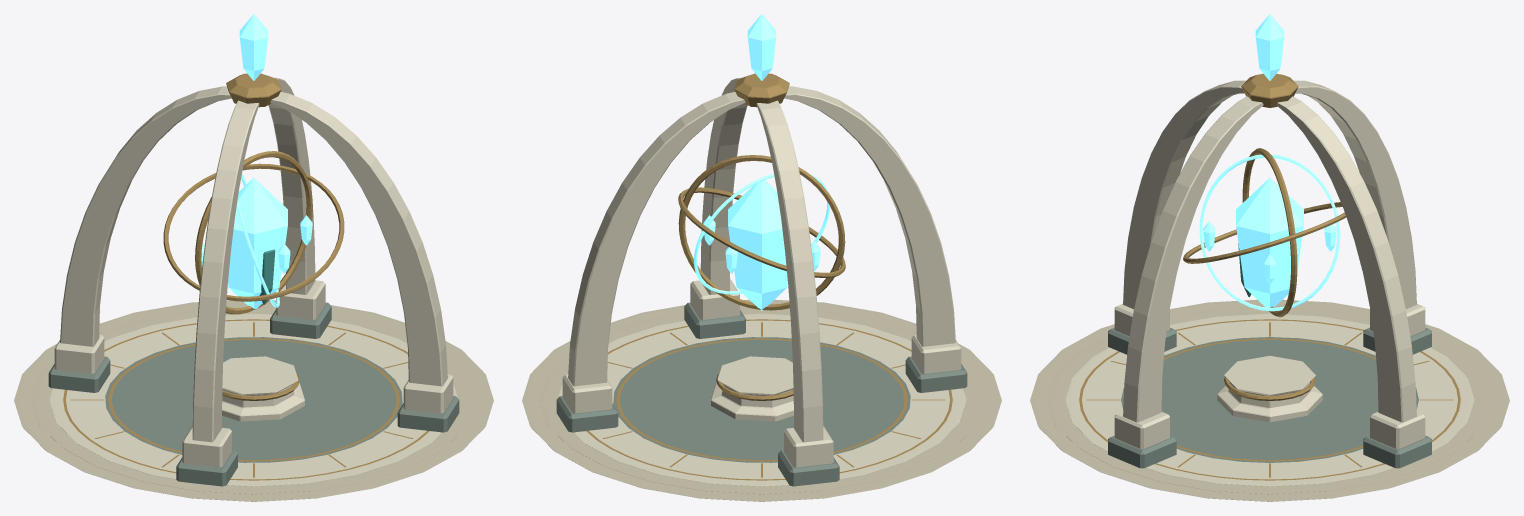
File: sanctuary_blue.glb
The picture shows the model from 3 angles, left to right: view 1: azimuth 30°, elevation 25°; view 2: azimuth 150°, elevation 25°; view 3: azimuth 270°, elevation 25°; orthographic projection.
Visible parts, largest first — view 1: sanctuary_blue / mesh, NexusOrbit-0, NexusOrbit-1; view 2: sanctuary_blue / mesh, NexusOrbit-1, NexusOrbit-0, NexusOrbit-2; view 3: sanctuary_blue / mesh, NexusOrbit-2, NexusOrbit-1, NexusOrbit-0.
Boxes of the visible parts, <box> form: sanctuary_blue / mesh: <box>14,14,493,501</box>; NexusOrbit-0: <box>163,163,344,301</box>; NexusOrbit-1: <box>195,151,312,314</box>; sanctuary_blue / mesh: <box>522,14,1001,501</box>; NexusOrbit-1: <box>678,155,845,310</box>; NexusOrbit-0: <box>678,187,845,277</box>; NexusOrbit-2: <box>694,173,829,294</box>; sanctuary_blue / mesh: <box>1030,14,1509,501</box>; NexusOrbit-2: <box>1199,154,1340,311</box>; NexusOrbit-1: <box>1242,148,1297,317</box>; NexusOrbit-0: <box>1183,202,1346,263</box>.
Bounding box in the file's own units: 19 × 16.88 × 19.
